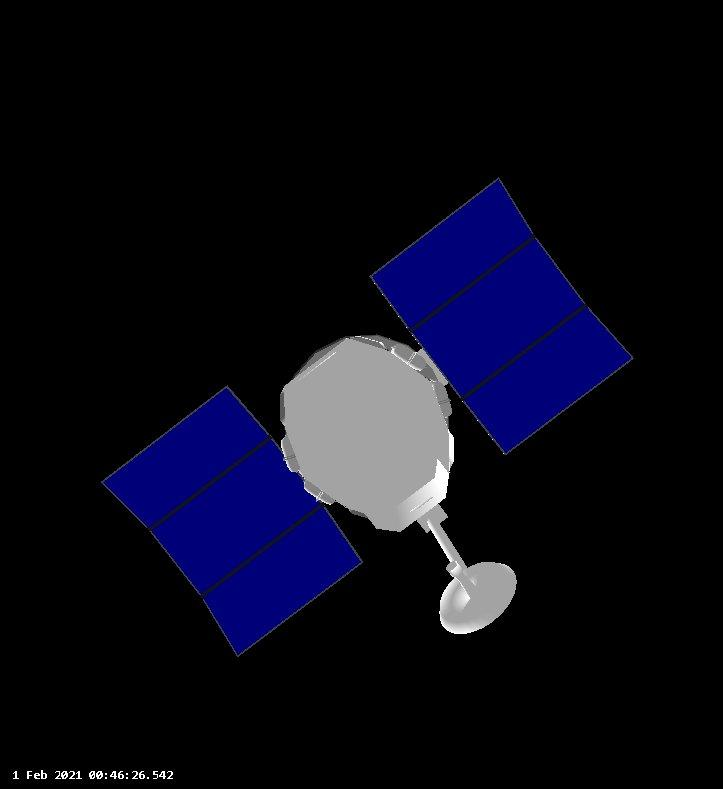antenna: (434, 559, 521, 639)
body: (279, 335, 455, 535)
solar: (362, 165, 638, 458), (93, 380, 366, 664)
